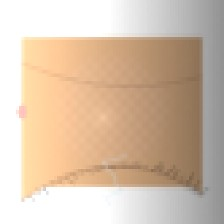foreign_body_visible: (83, 87, 104, 105)
